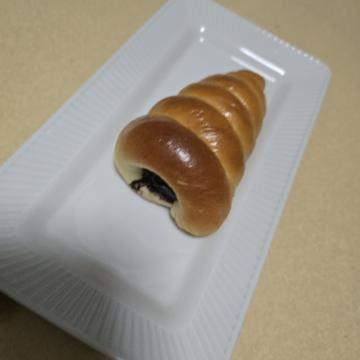cream horn: (53, 78, 256, 266)
